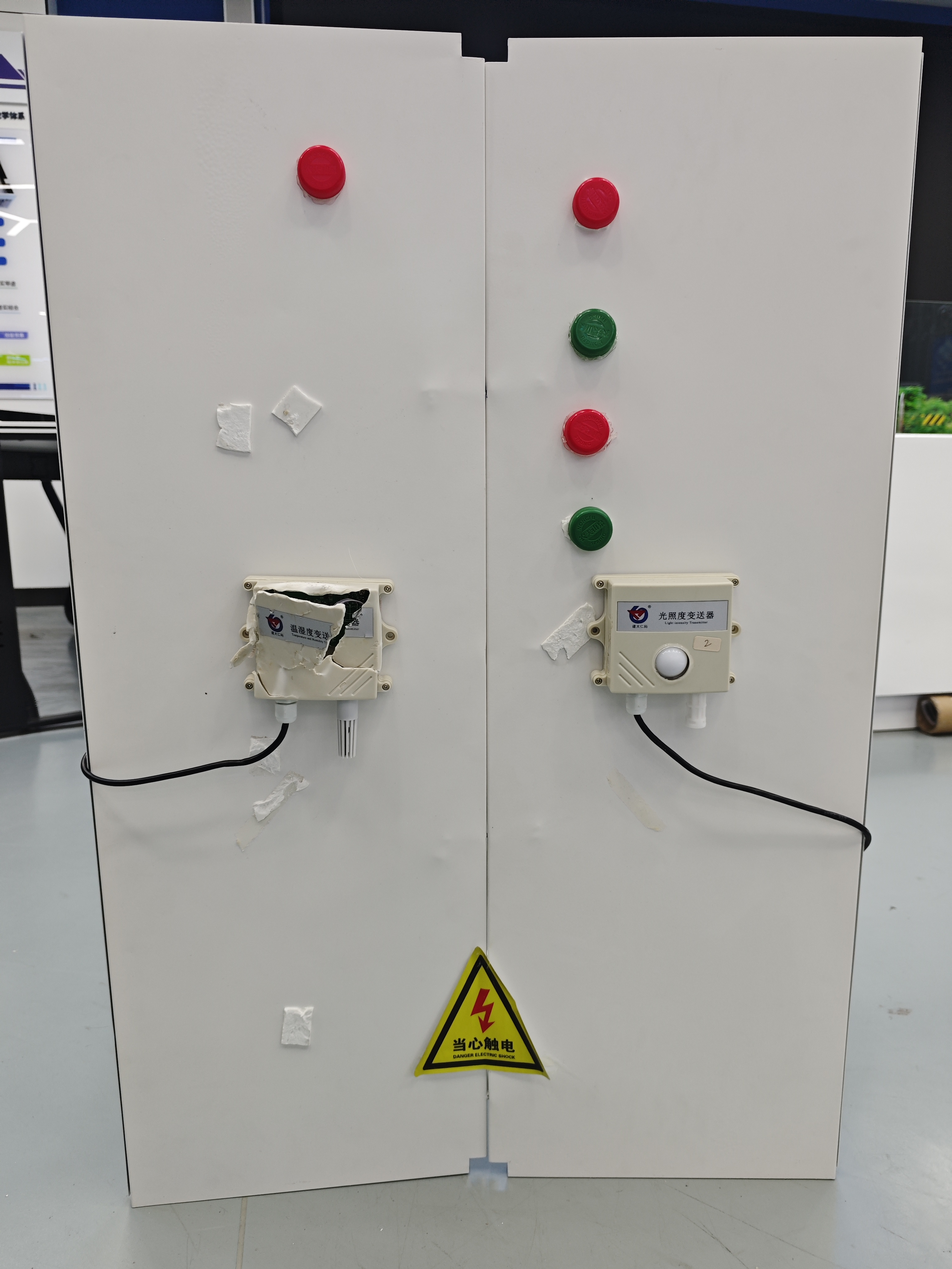red_warning: (548, 390, 660, 497), (552, 149, 622, 251), (269, 134, 360, 209)
sensor_damage: (223, 553, 424, 782)
